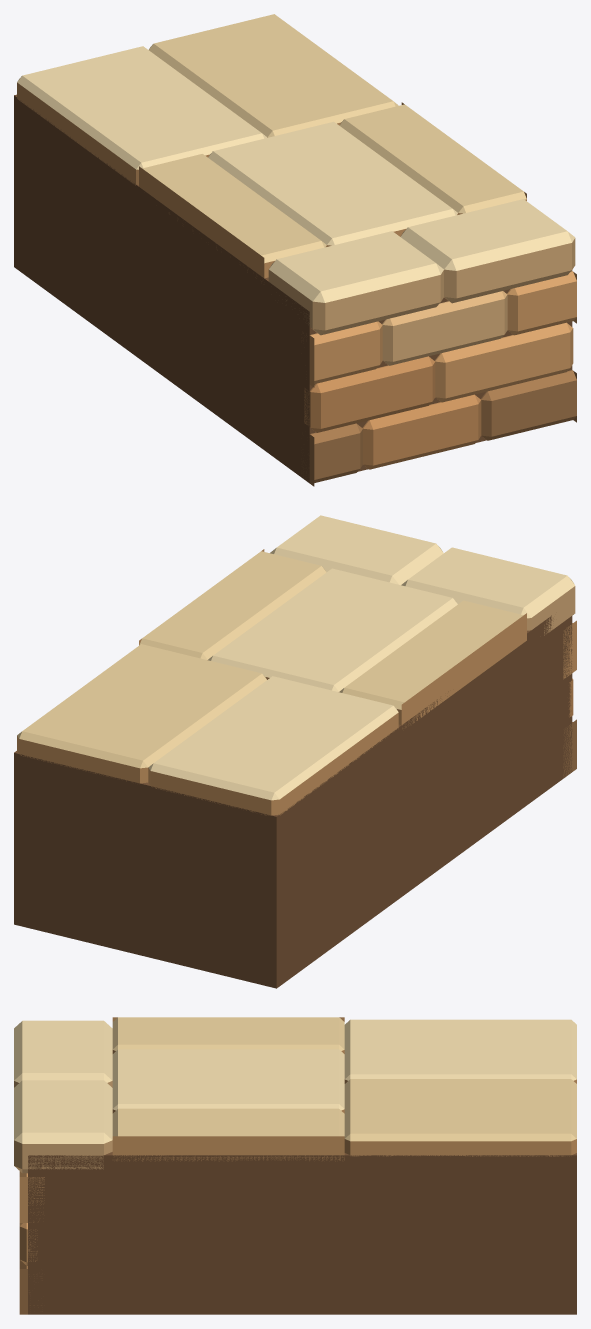
The model's file is seawall_2m.glb.
3 views of the same model, one above another, from view 1: azimuth 30°, elevation 25°; view 2: azimuth 150°, elevation 25°; view 3: azimuth 270°, elevation 25° (orthographic). The views are drawn at different scales.
Parts seen in each view (by area): view 1: seawall_2m; view 2: seawall_2m; view 3: seawall_2m.
Boxes of the visible parts, x1=… form: seawall_2m: x1=14, y1=14, x2=576, y2=486; seawall_2m: x1=14, y1=515, x2=576, y2=988; seawall_2m: x1=14, y1=1017, x2=576, y2=1314.
Bounding box in the file's own units: 2 × 1.4 × 4.
Materials: 1 (1 with a texture image).
